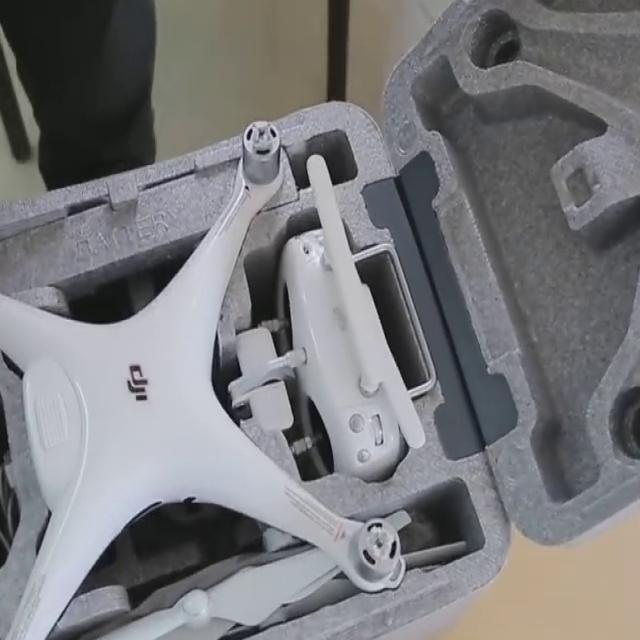drone: (0, 109, 432, 640)
